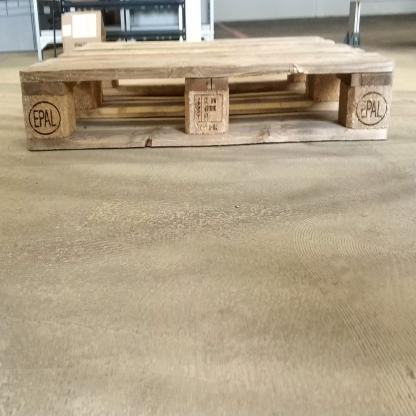BoxFace: (13, 29, 398, 155)
